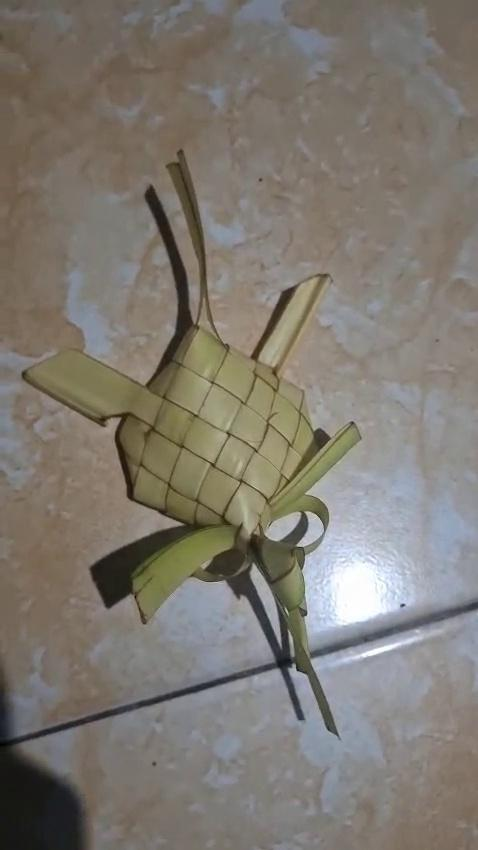Tipat Dampulan: (11, 149, 375, 755)
